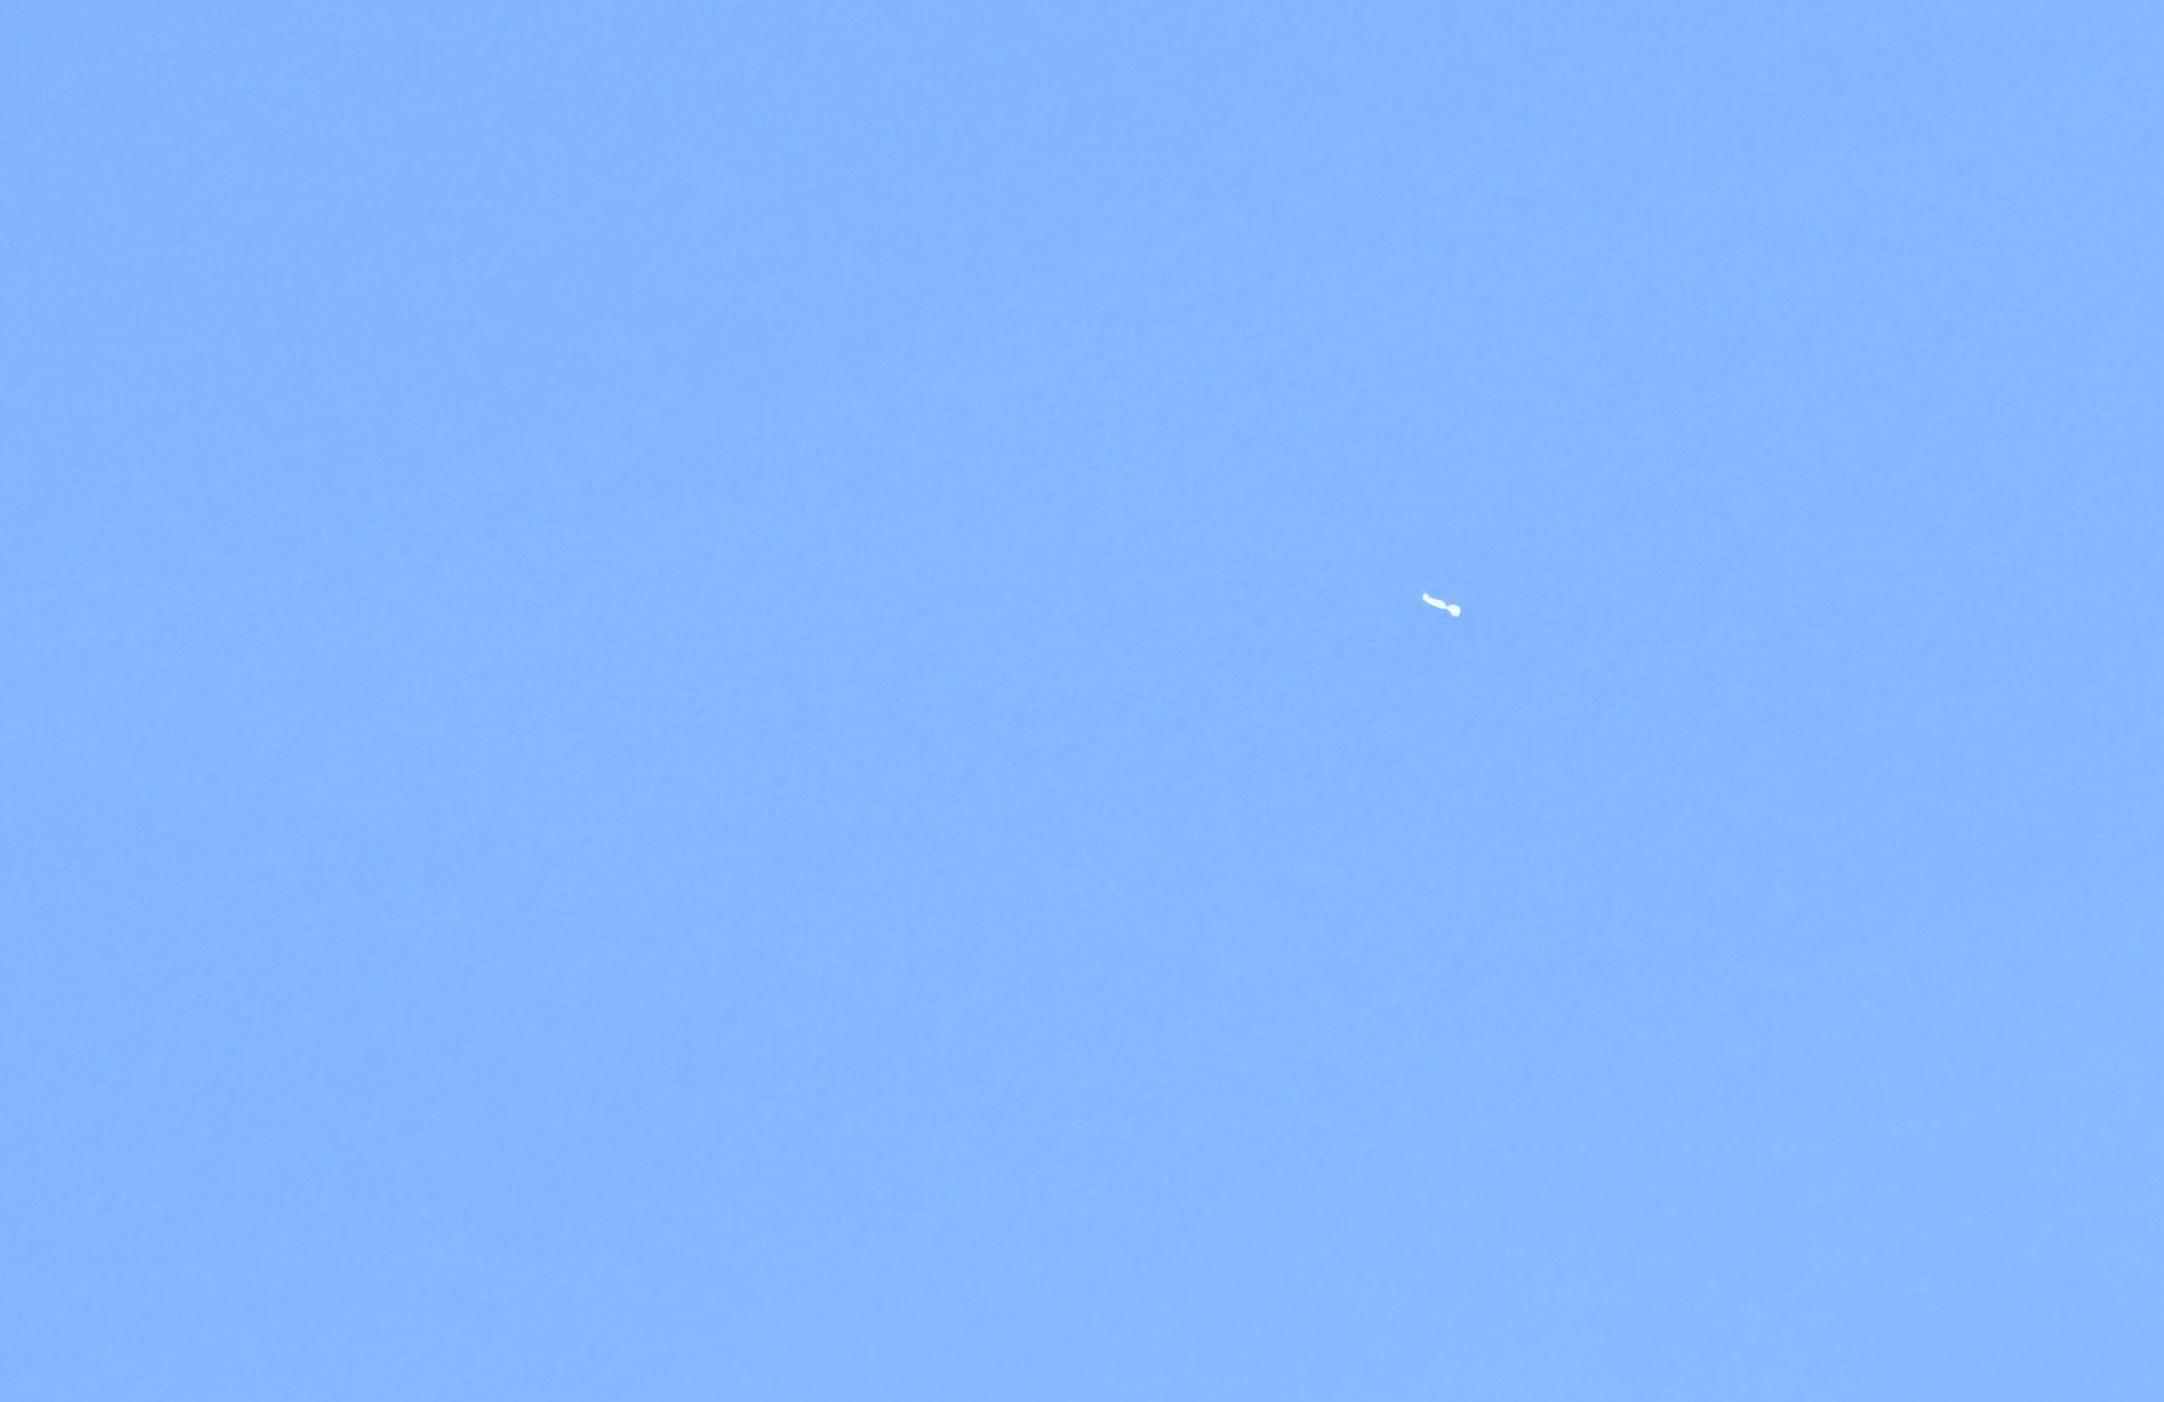Plane: (1391, 577, 1484, 613)
